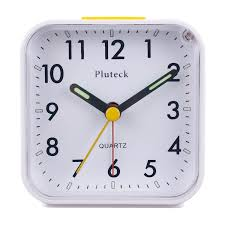alarm_clock: (21, 16, 205, 204)
